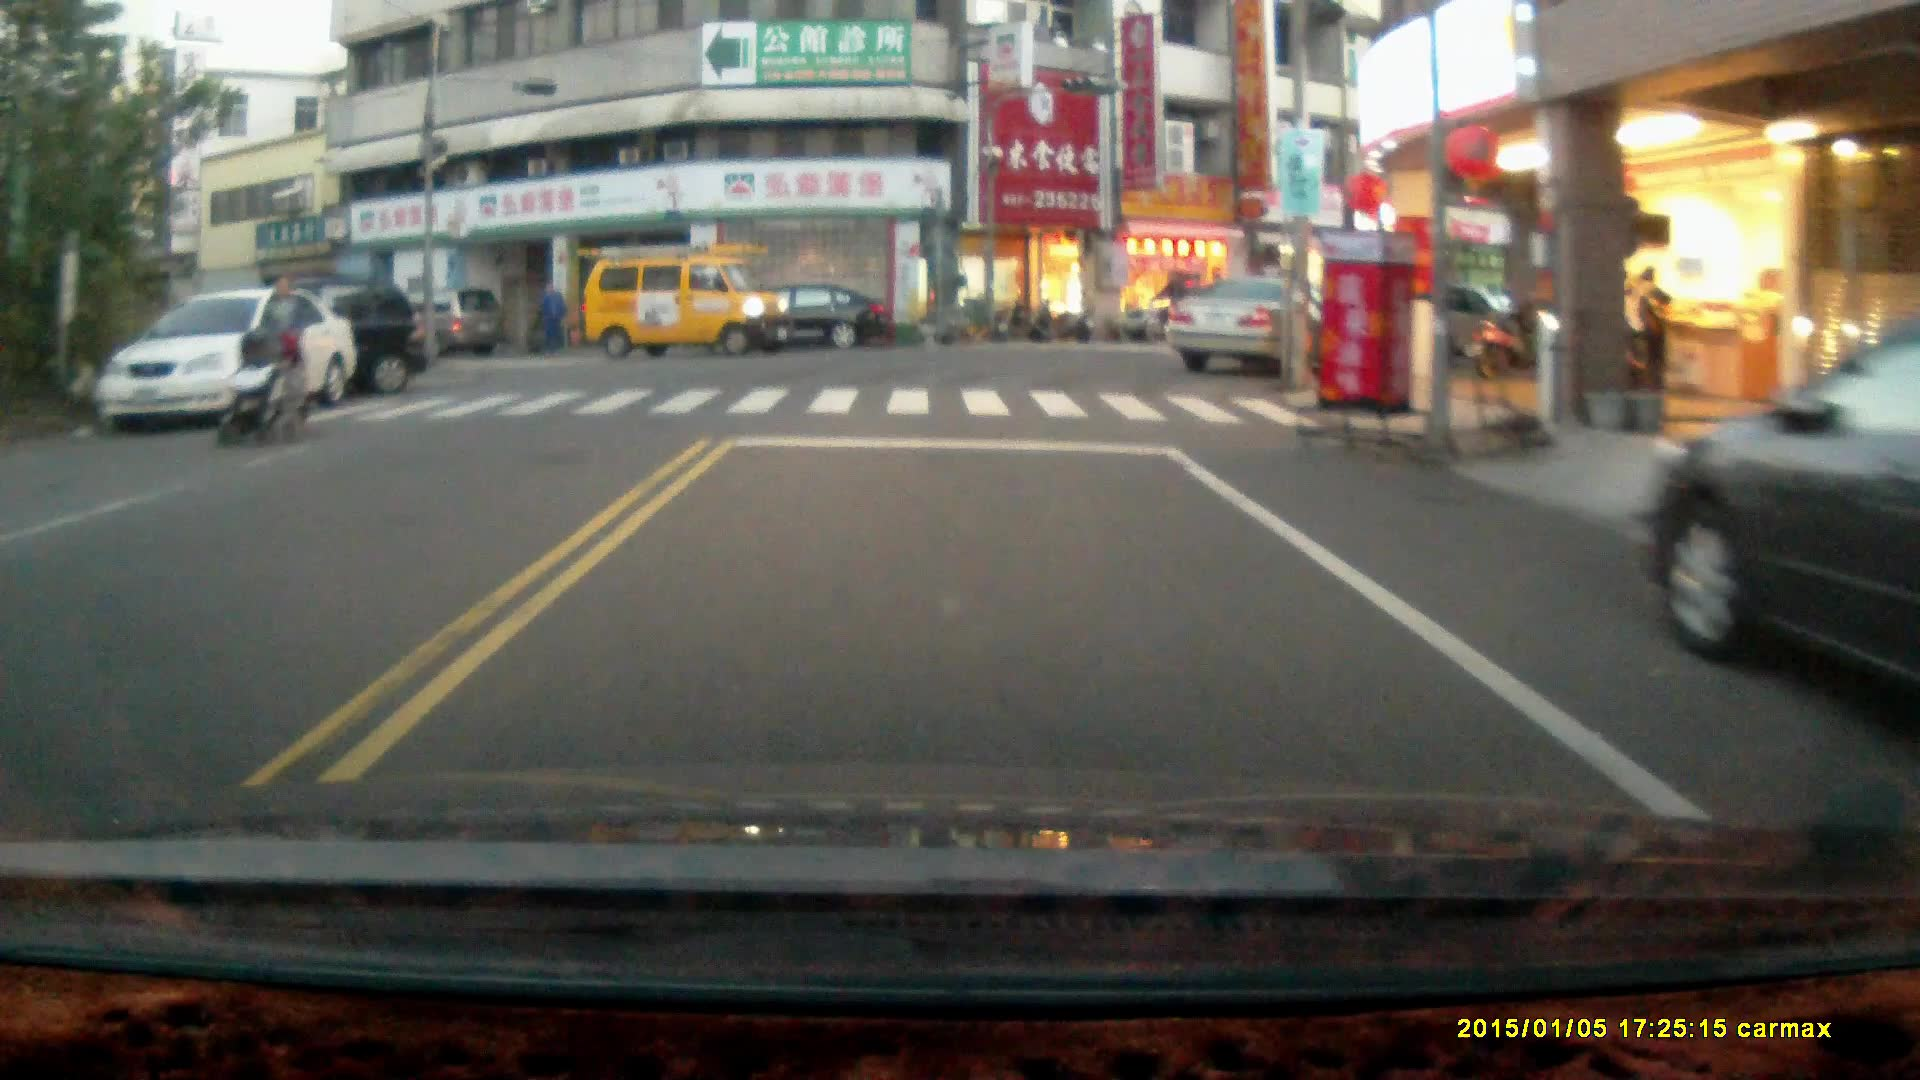pedestrian: (262, 268, 306, 414), (1636, 264, 1673, 398), (540, 281, 567, 356)
rider: (213, 320, 305, 447), (1133, 263, 1194, 345)
vehicle: (86, 290, 355, 438), (174, 276, 425, 401), (583, 241, 795, 356), (1170, 273, 1343, 375), (718, 283, 889, 357), (381, 287, 514, 366)
